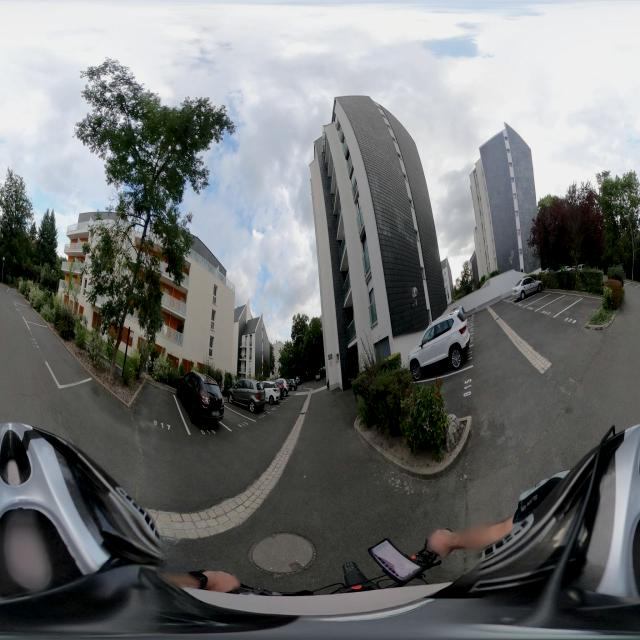car: (408, 312, 473, 379), (183, 375, 224, 427), (225, 377, 266, 412), (513, 276, 534, 300), (260, 380, 281, 404), (275, 378, 289, 398)
